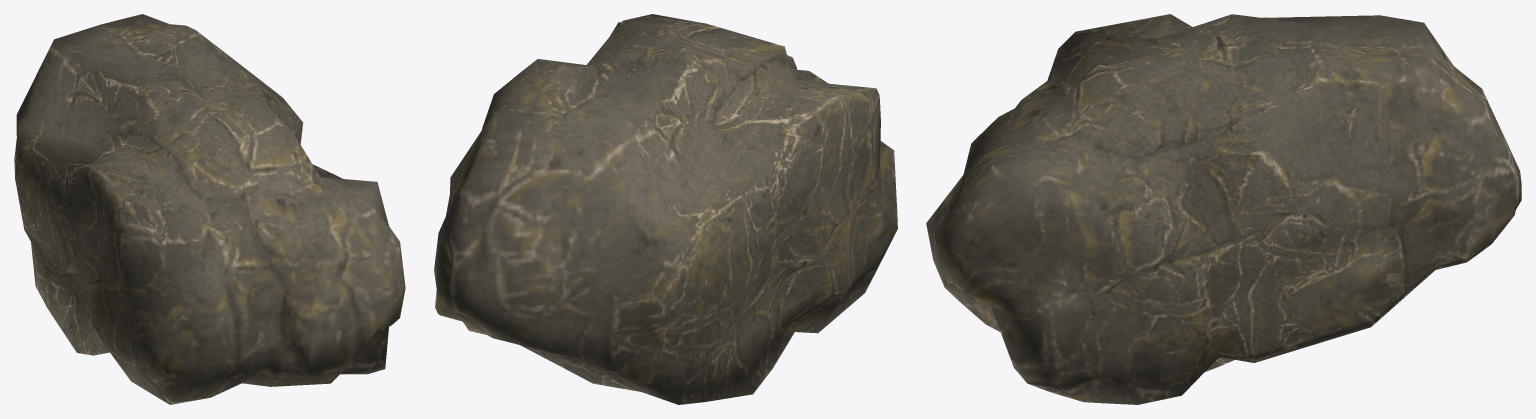
The model's file is ClusterRockA.gltf.
3 views of the same model, side by side, from view 1: azimuth 30°, elevation 25°; view 2: azimuth 150°, elevation 25°; view 3: azimuth 270°, elevation 25° (orthographic). The views are drawn at different scales.
Parts seen in each view (by area): view 1: rock-cluster-low-01_rock-cluster-dark_0; view 2: rock-cluster-low-01_rock-cluster-dark_0; view 3: rock-cluster-low-01_rock-cluster-dark_0.
Boxes of the visible parts, x1,y1,x2,y2 form: rock-cluster-low-01_rock-cluster-dark_0: (14,14,405,404); rock-cluster-low-01_rock-cluster-dark_0: (434,14,897,404); rock-cluster-low-01_rock-cluster-dark_0: (926,14,1521,404).
Bounding box in the file's own units: 42.75 × 46.91 × 76.53.
1 material, 1 textured.
